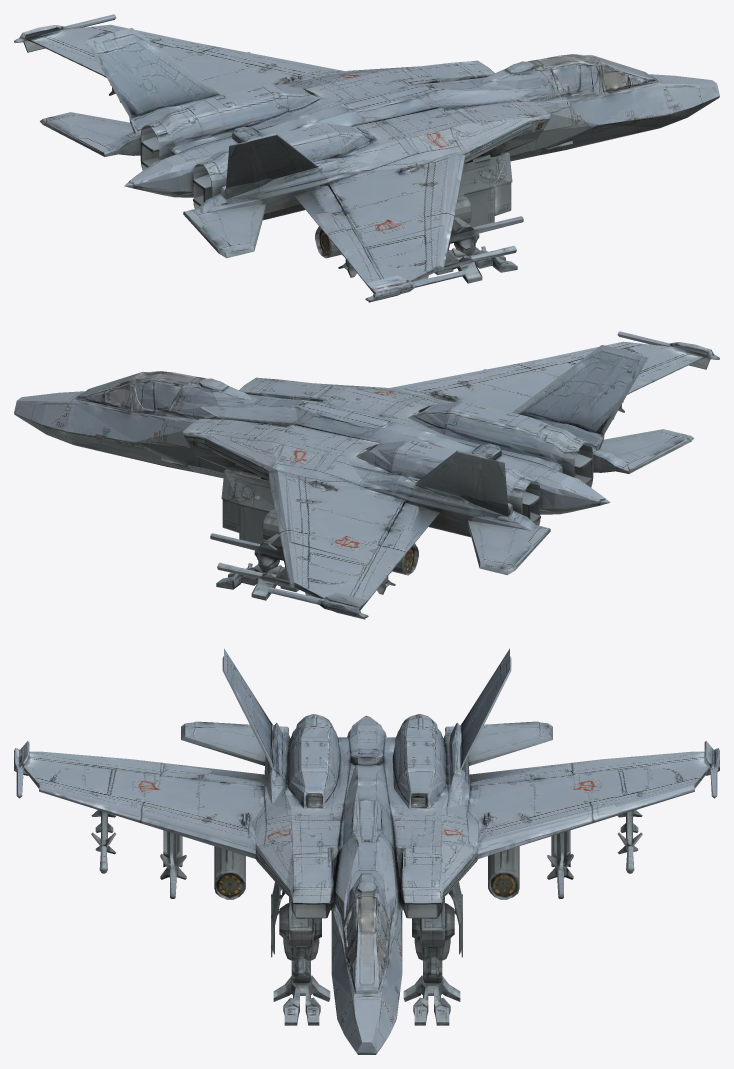
The model's file is valkyrie_LOD0.glb.
3 renders of one model, top to bottom at view 1: azimuth 30°, elevation 25°; view 2: azimuth 150°, elevation 25°; view 3: azimuth 270°, elevation 25°, orthographic.
Parts seen in each view (by area): view 1: valkyrie_LOD0; view 2: valkyrie_LOD0; view 3: valkyrie_LOD0.
Boxes of the visible parts, x1,y1,x2,y2 form: valkyrie_LOD0: (14, 14, 719, 302); valkyrie_LOD0: (14, 331, 719, 619); valkyrie_LOD0: (14, 648, 719, 1054).
Bounding box in the file's own units: 0.9609 × 0.3503 × 1.
1 material, 1 textured.
